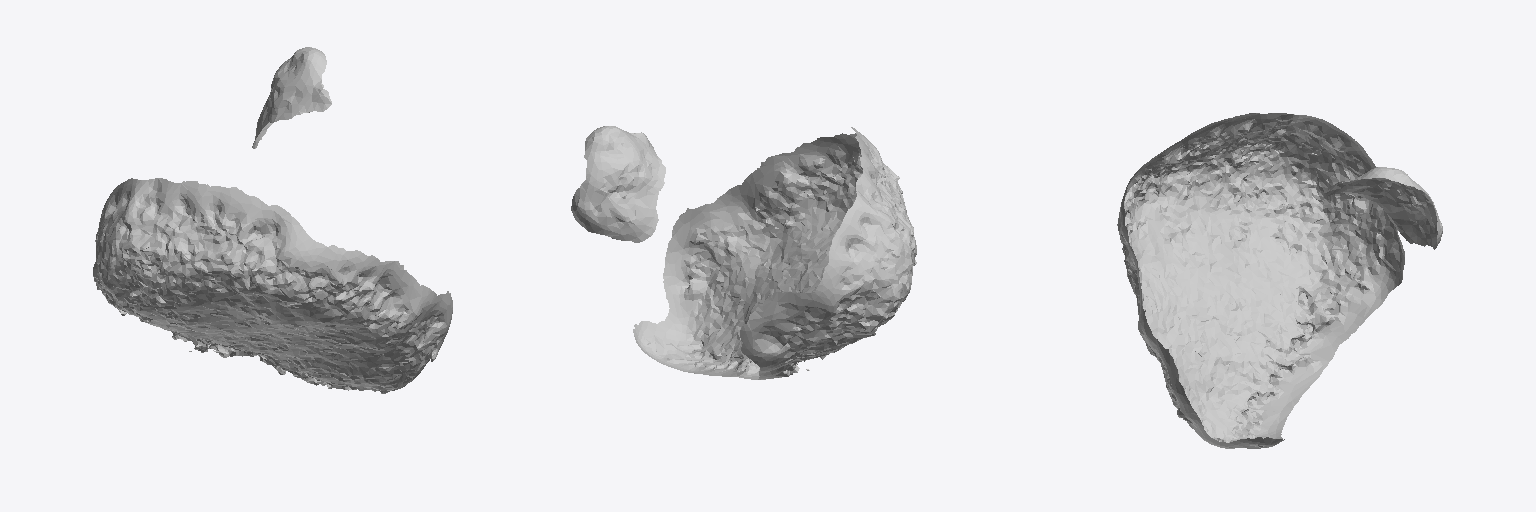
The model's file is UHMesh28-54.obj.
3 renders of one model, left to right at view 1: azimuth 30°, elevation 25°; view 2: azimuth 150°, elevation 25°; view 3: azimuth 270°, elevation 25°, orthographic.
Size of the model in its own units: 0.0924 by 0.0835 by 0.0877.